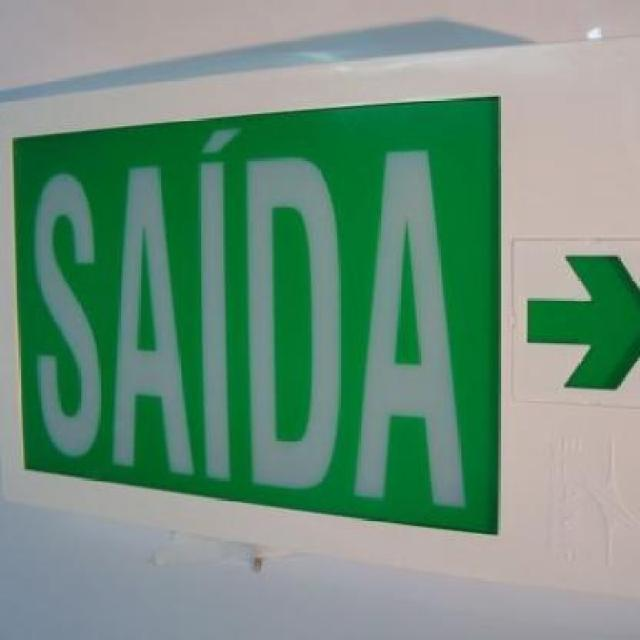emergency_exit: (6, 92, 505, 539)
